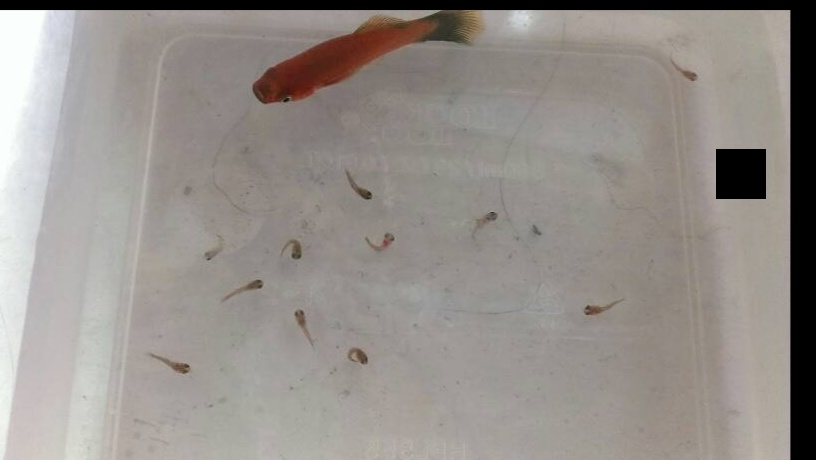fry: (242, 16, 487, 109), (564, 285, 632, 330), (660, 44, 709, 93), (457, 198, 508, 244), (218, 269, 271, 311), (284, 300, 326, 352), (341, 163, 378, 216), (145, 343, 197, 380), (355, 221, 399, 261), (335, 334, 375, 376), (192, 233, 230, 271), (276, 228, 311, 268)
